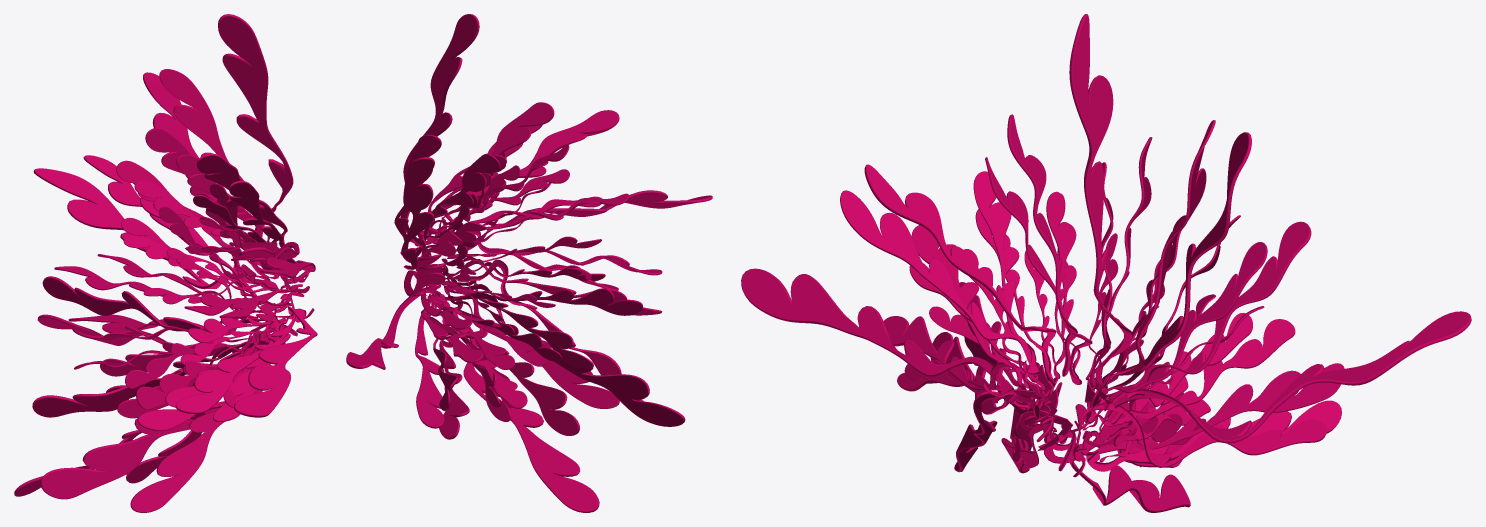
The model's file is Ingang_BaarmoederDubbel.fbx.
The picture shows the model from 3 angles, left to right: view 1: azimuth 30°, elevation 25°; view 2: azimuth 150°, elevation 25°; view 3: azimuth 270°, elevation 25°; orthographic projection. The views are drawn at different scales.
Parts seen in each view (by area): view 1: bevelPolygon27 (×2), bevelPolygon31 (×2), bevelPolygon24 (×2), bevelPolygon26 (×2), bevelPolygon28 (×2), bevelPolygon32 (×2), bevelPolygon20 (×2), bevelPolygon34 (×2), bevelPolygon30 (×2), bevelPolygon15 (×2), bevelPolygon19 (×2), bevelPolygon18 (×2) (+13 smaller); view 2: bevelPolygon36 (×2), bevelPolygon31 (×2), bevelPolygon27 (×2), bevelPolygon34 (×2), bevelPolygon26 (×2), bevelPolygon23 (×2), bevelPolygon30 (×2), bevelPolygon24 (×2), bevelPolygon22, bevelPolygon15 (×2), bevelPolygon25 (×2), bevelPolygon19 (+11 smaller); view 3: bevelPolygon28 (×2), bevelPolygon26 (×2), bevelPolygon27 (×2), bevelPolygon23 (×2), bevelPolygon22 (×2), bevelPolygon18 (×2), bevelPolygon32 (×2), bevelPolygon36 (×2), bevelPolygon25 (×2), bevelPolygon19 (×2), bevelPolygon16 (×2), bevelPolygon24 (×2) (+10 smaller).
Part boxes in pixels (x1,y1,x2,y2): bevelPolygon27 (×2): [159, 14, 293, 279]; bevelPolygon31 (×2): [40, 315, 300, 499]; bevelPolygon24 (×2): [130, 294, 295, 512]; bevelPolygon26 (×2): [33, 168, 278, 335]; bevelPolygon28 (×2): [233, 257, 317, 417]; bevelPolygon32 (×2): [42, 276, 273, 376]; bevelPolygon20 (×2): [175, 284, 302, 414]; bevelPolygon34 (×2): [32, 324, 297, 418]; bevelPolygon30 (×2): [136, 303, 291, 409]; bevelPolygon15 (×2): [134, 127, 277, 278]; bevelPolygon19 (×2): [176, 153, 296, 263]; bevelPolygon18 (×2): [83, 155, 257, 296]; bevelPolygon36 (×2): [442, 285, 619, 512]; bevelPolygon31 (×2): [442, 259, 685, 426]; bevelPolygon27 (×2): [394, 14, 479, 269]; bevelPolygon34 (×2): [442, 280, 593, 435]; bevelPolygon26 (×2): [346, 285, 444, 428]; bevelPolygon23 (×2): [410, 110, 619, 244]; bevelPolygon30 (×2): [441, 236, 642, 315]; bevelPolygon24 (×2): [447, 231, 644, 401]; bevelPolygon22: [401, 157, 434, 268]; bevelPolygon15 (×2): [410, 153, 500, 267]; bevelPolygon25 (×2): [431, 294, 511, 439]; bevelPolygon19: [423, 102, 554, 235]; bevelPolygon28 (×2): [741, 190, 1039, 397]; bevelPolygon26 (×2): [1081, 311, 1471, 467]; bevelPolygon27 (×2): [1069, 14, 1215, 403]; bevelPolygon23 (×2): [864, 157, 1092, 386]; bevelPolygon22 (×2): [1104, 132, 1267, 392]; bevelPolygon18 (×2): [1089, 221, 1311, 411]; bevelPolygon32 (×2): [1082, 363, 1344, 449]; bevelPolygon36 (×2): [1001, 423, 1190, 512]; bevelPolygon25 (×2): [1047, 400, 1341, 471]; bevelPolygon19 (×2): [1007, 114, 1113, 379]; bevelPolygon16 (×2): [911, 209, 1051, 385]; bevelPolygon24 (×2): [897, 360, 1041, 472].
Bounding box in the file's own units: 112 × 180 × 205.
